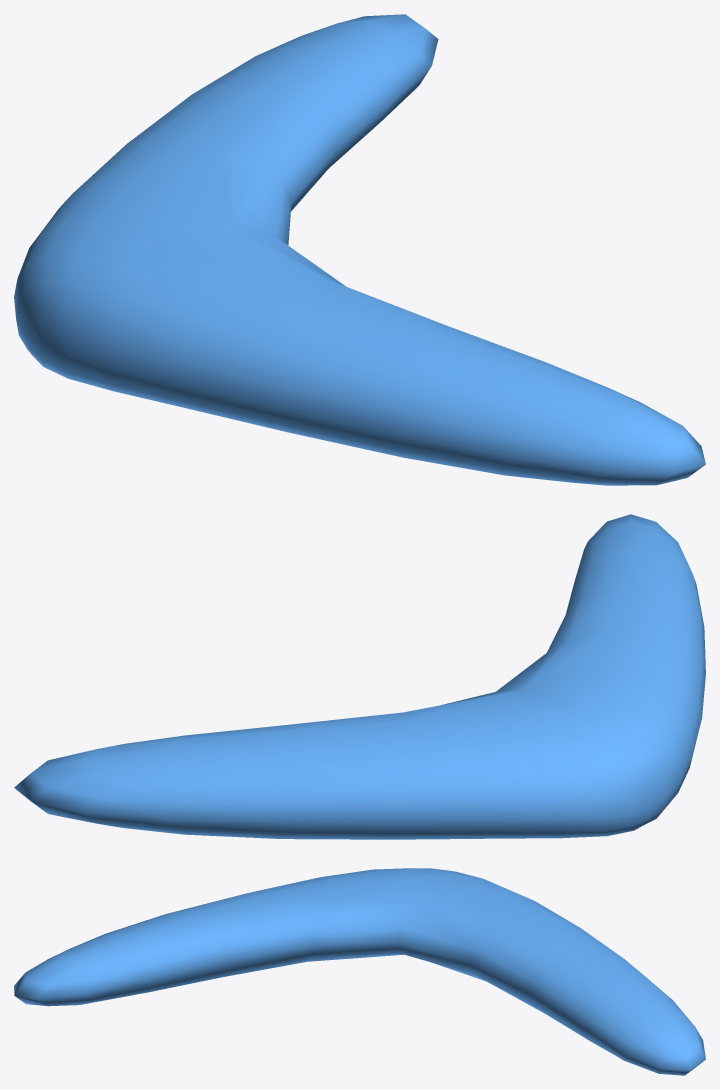
File: boomerang.obj
3 renders of one model, top to bottom at view 1: azimuth 30°, elevation 25°; view 2: azimuth 150°, elevation 25°; view 3: azimuth 270°, elevation 25°, orthographic. The views are drawn at different scales.
Visible parts, largest first — view 1: node_053c038d_d9a3_4144_a21b_a95657c0656e_mesh0; view 2: node_053c038d_d9a3_4144_a21b_a95657c0656e_mesh0; view 3: node_053c038d_d9a3_4144_a21b_a95657c0656e_mesh0.
Part boxes in pixels (x1,y1,x2,y2): node_053c038d_d9a3_4144_a21b_a95657c0656e_mesh0: [14, 14, 705, 485]; node_053c038d_d9a3_4144_a21b_a95657c0656e_mesh0: [14, 514, 705, 839]; node_053c038d_d9a3_4144_a21b_a95657c0656e_mesh0: [14, 868, 705, 1075].
Size of the model in its own units: 1.68 by 0.3117 by 2.65.
